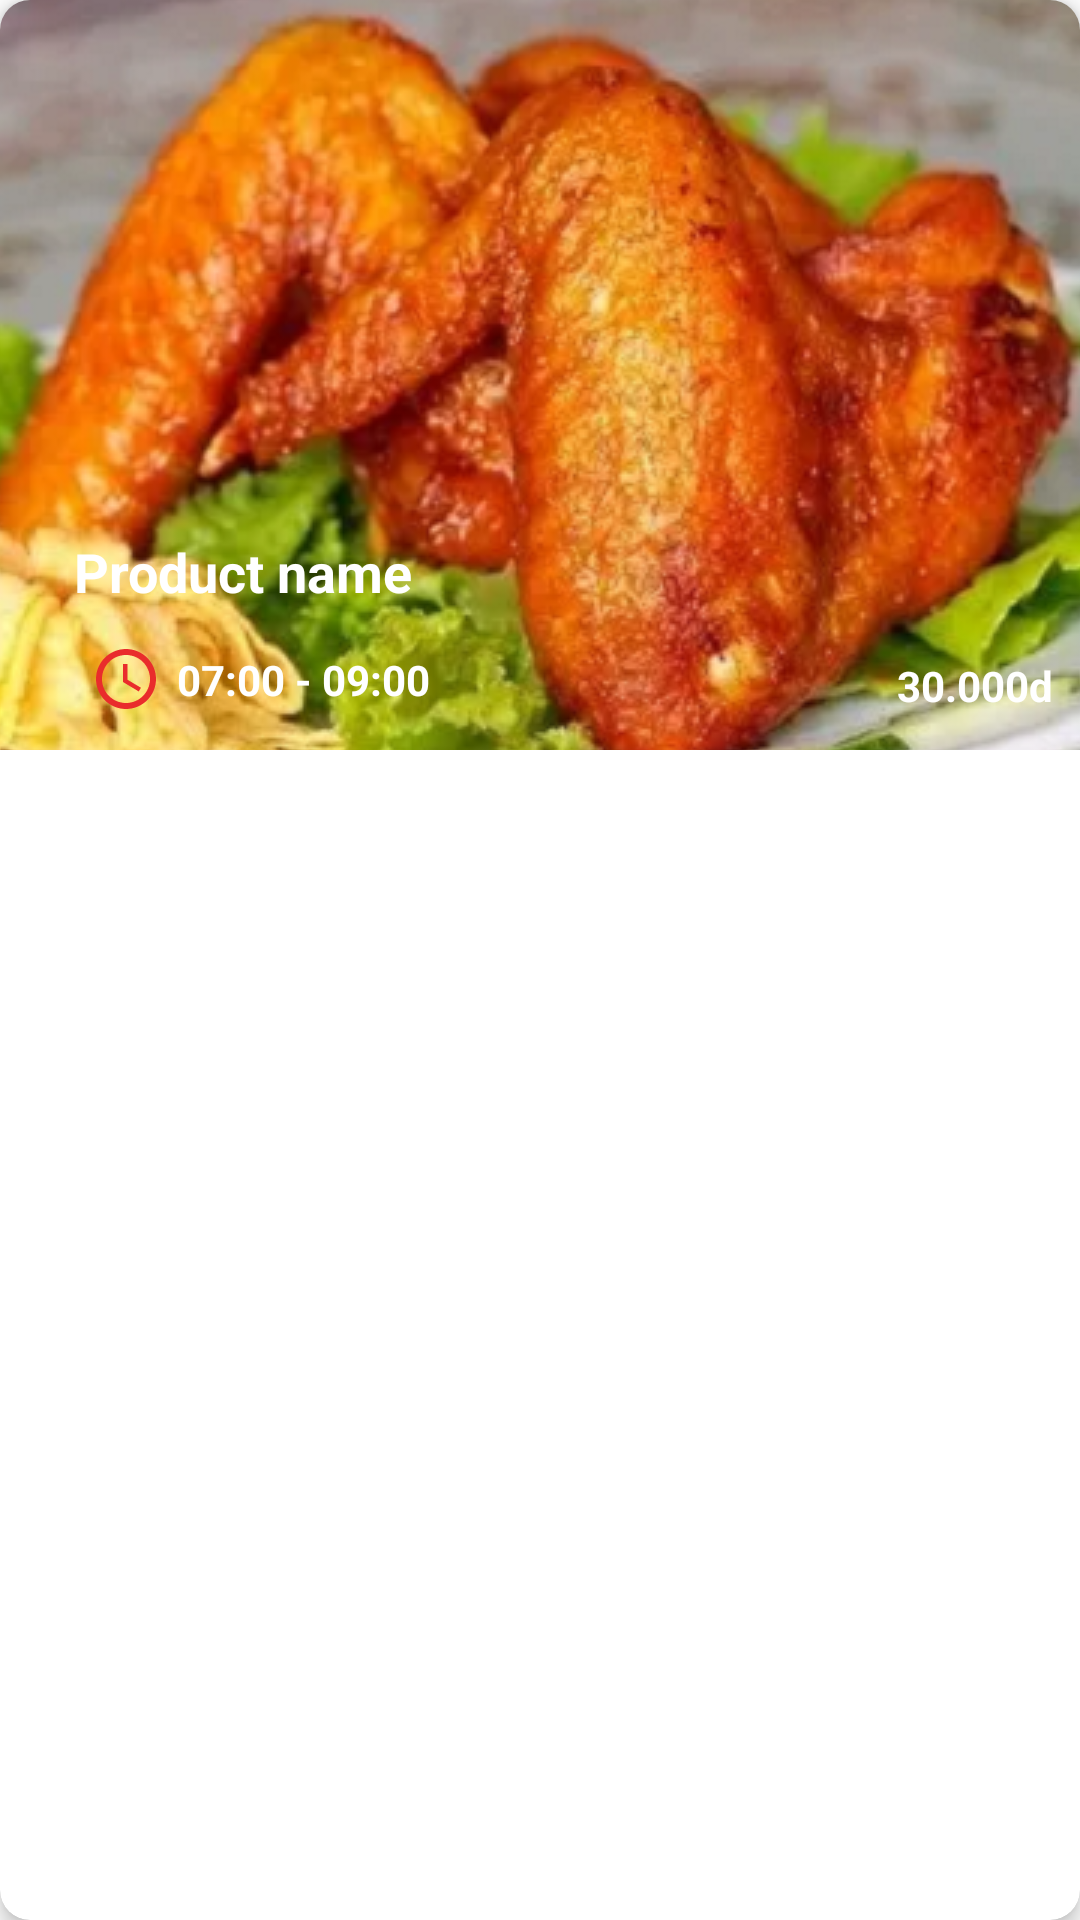

Named icons in this screenshot (1080*1920) and their centers, point (x, y):
access time: point (126, 679)
